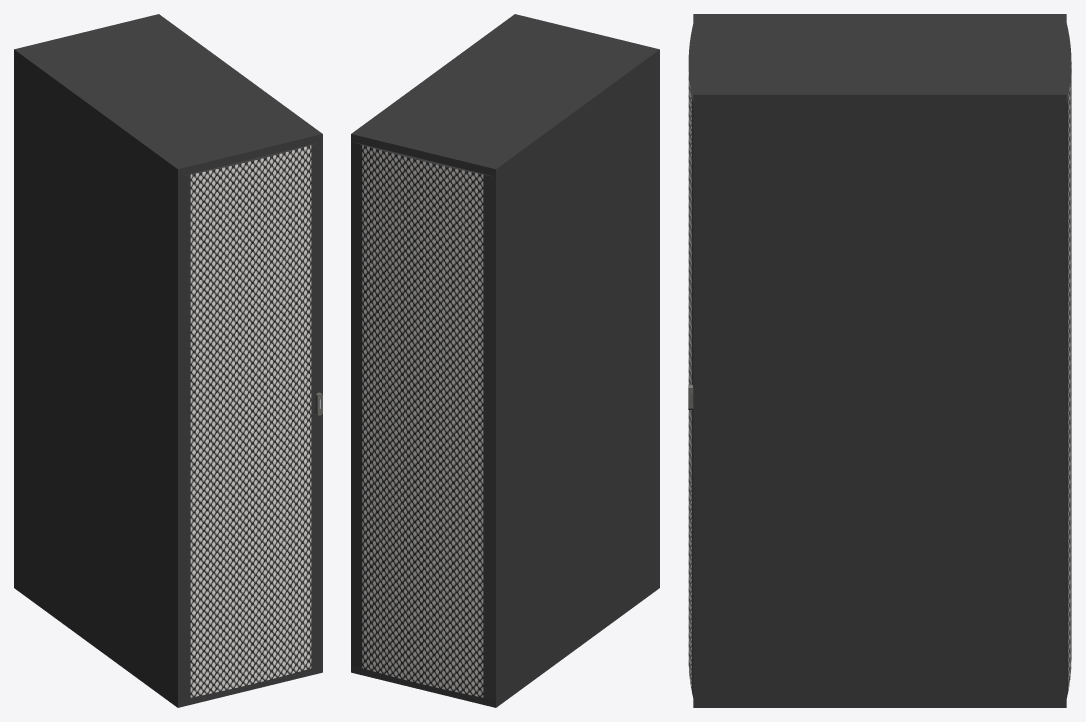
File: Huawei 44u Data Center cabinet.glb
3 views of the same model, side by side, from view 1: azimuth 30°, elevation 25°; view 2: azimuth 150°, elevation 25°; view 3: azimuth 270°, elevation 25° (orthographic). The views are drawn at different scales.
Bounding box in the file's own units: 0.6 × 2.14 × 1.21.
7 materials, 5 textured.
